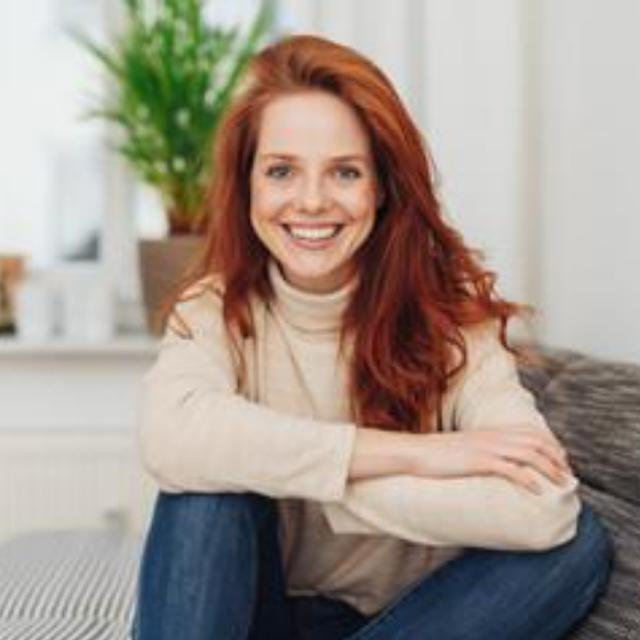Happy: (225, 59, 403, 292)
